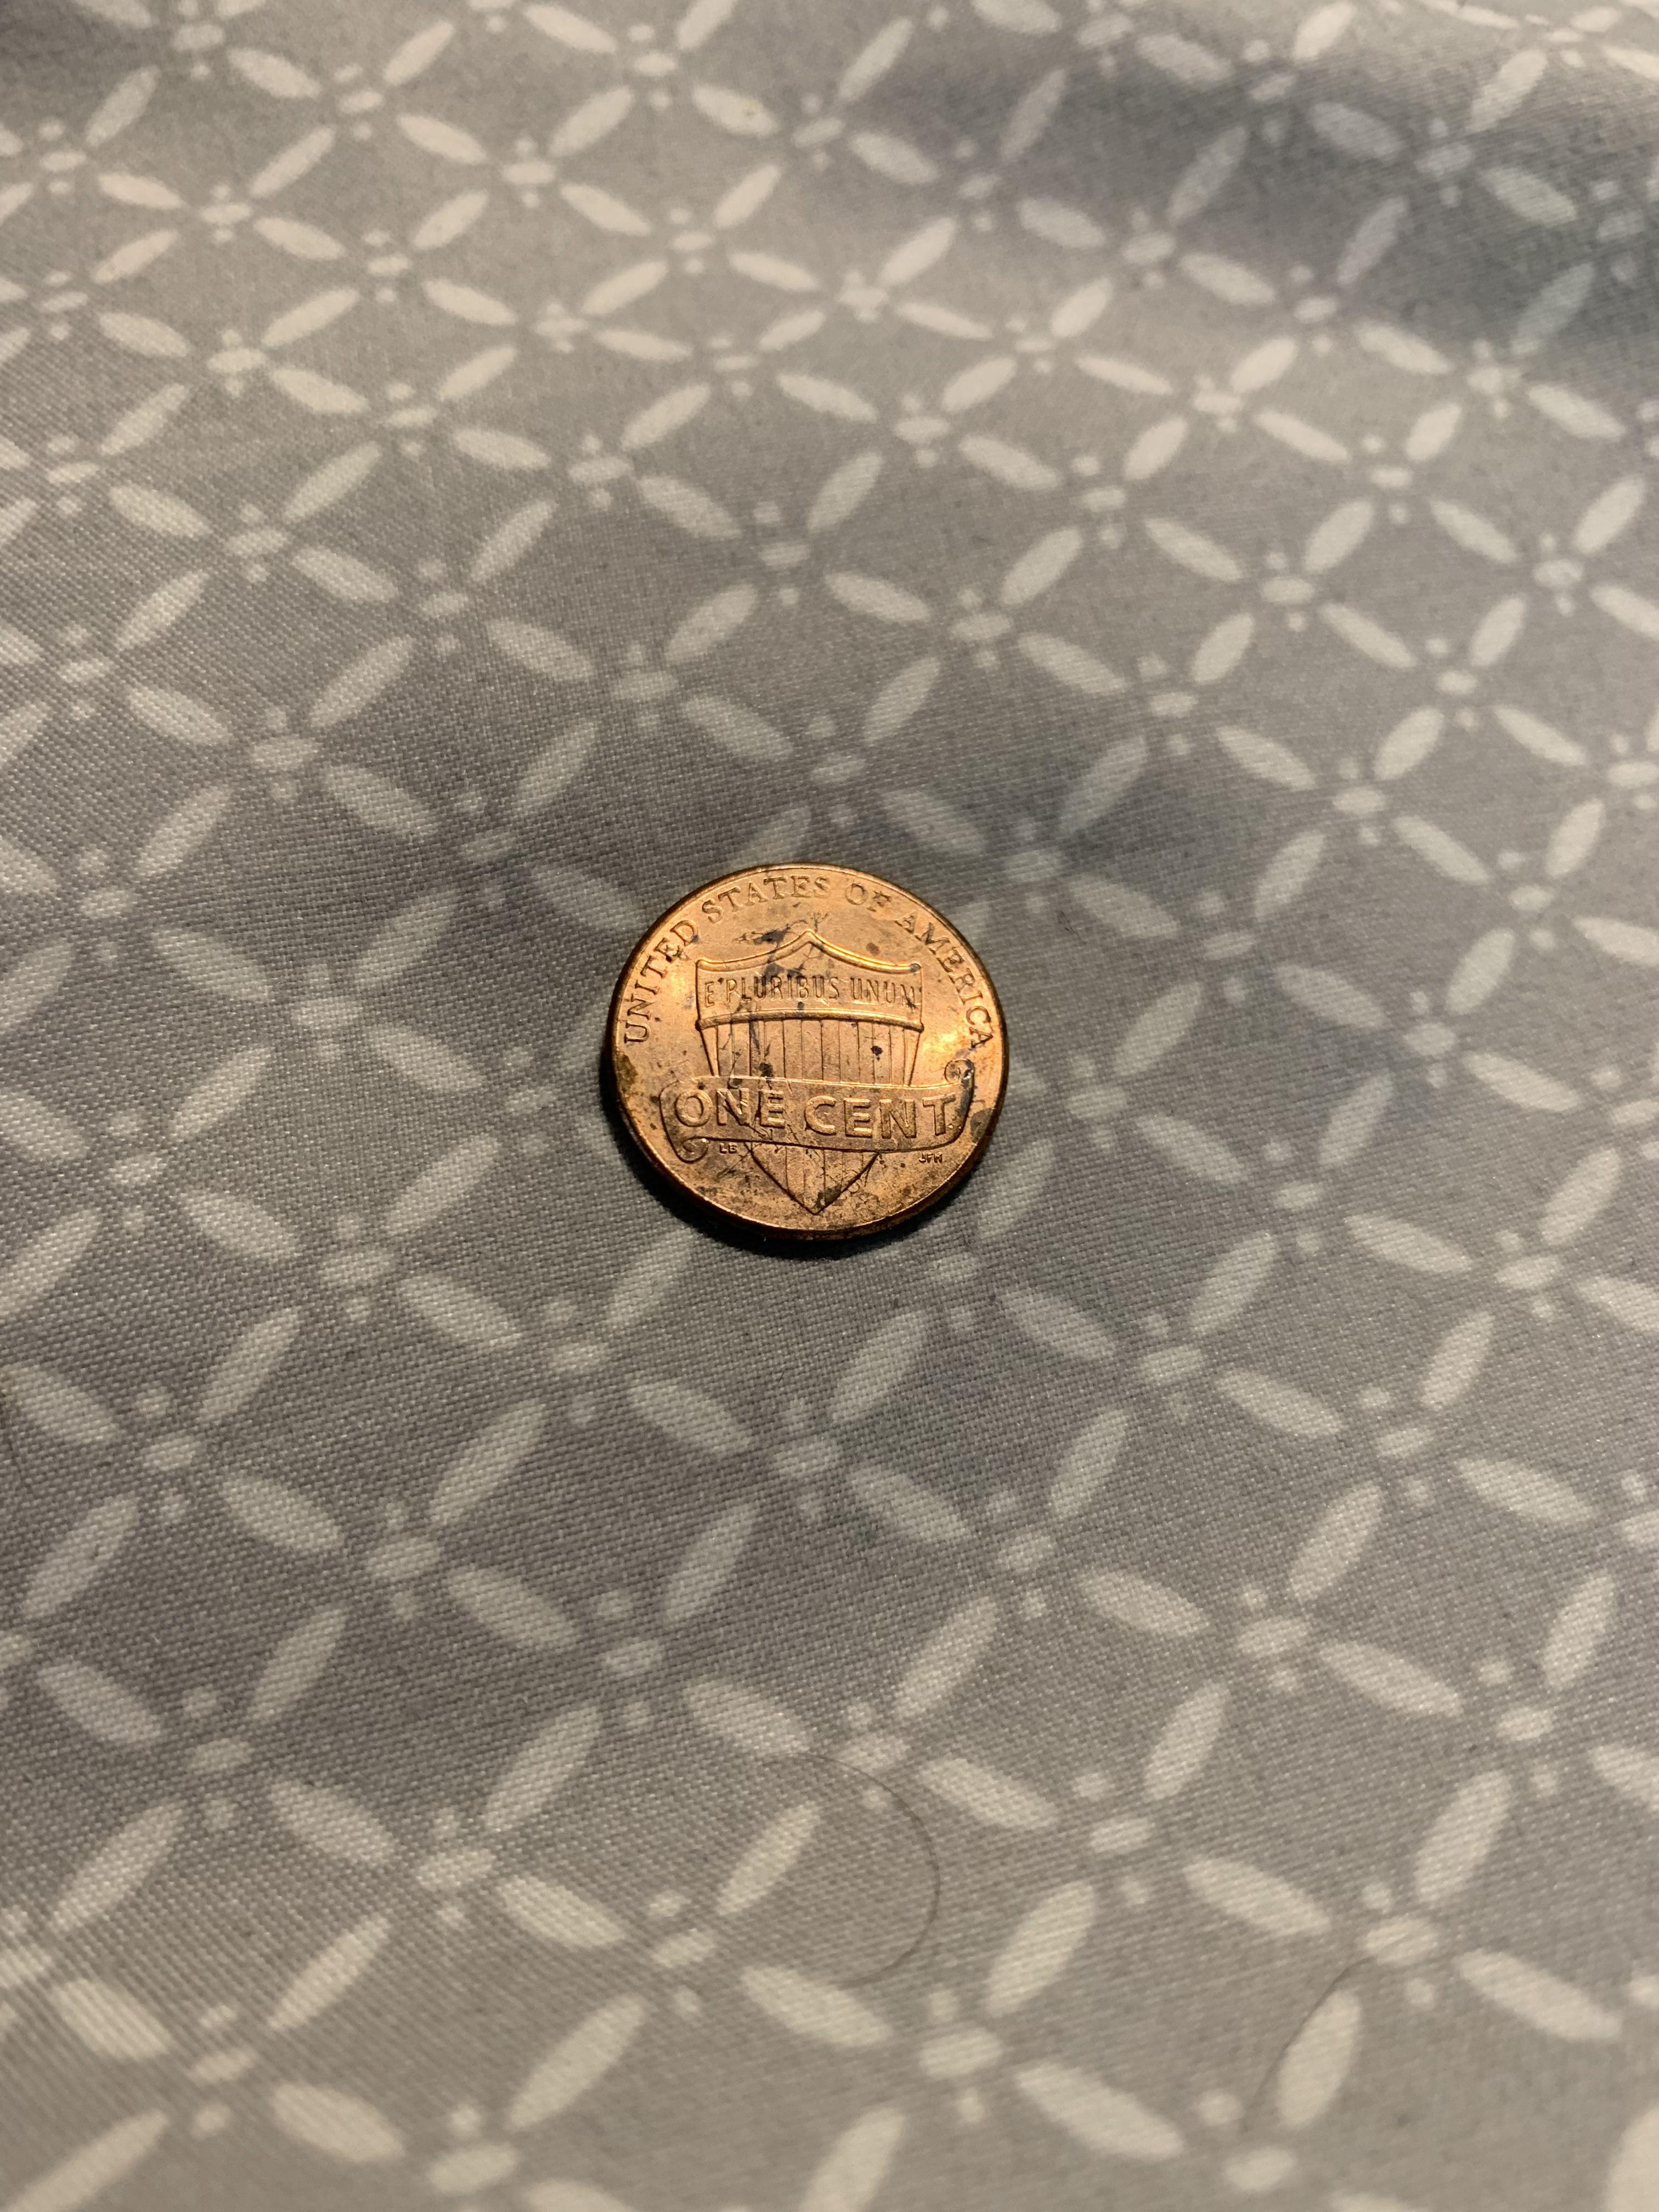Penny: (591, 853, 1025, 1261)
